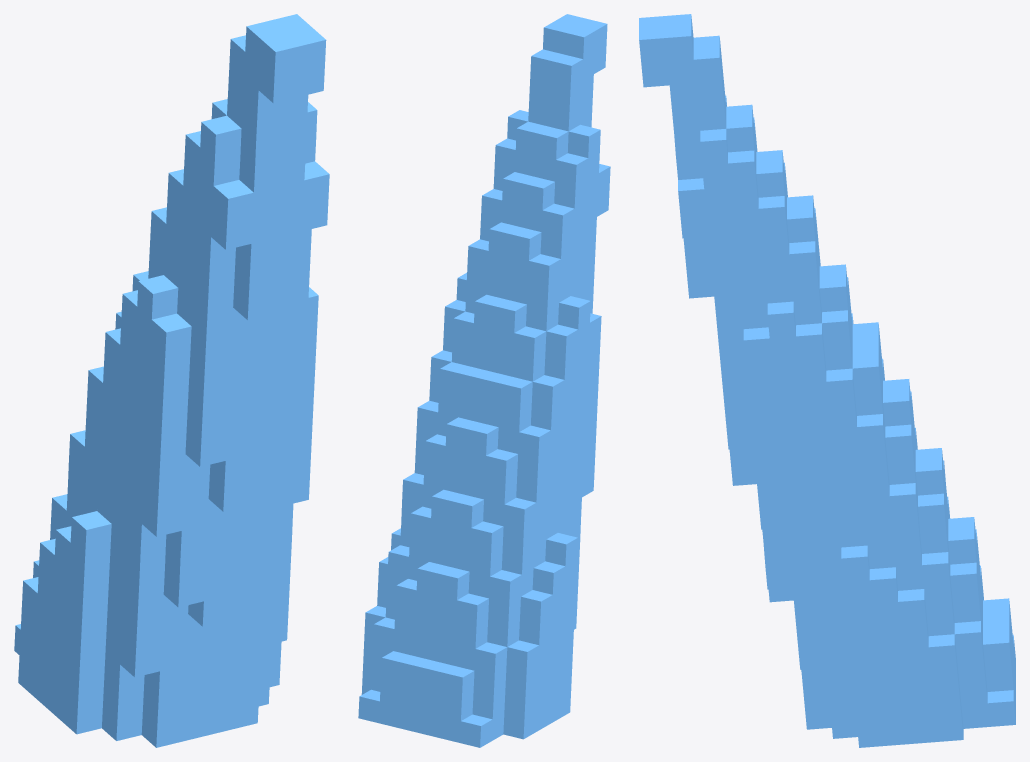
The model's file is blue.gltf.
3 renders of one model, left to right at view 1: azimuth 30°, elevation 25°; view 2: azimuth 150°, elevation 25°; view 3: azimuth 270°, elevation 25°, orthographic. The views are drawn at different scales.
Visible parts, largest first — view 1: 角.1; view 2: 角.1; view 3: 角.1.
Boxes of the visible parts, x1,y1,x2,y2 form: 角.1: [14, 14, 329, 747]; 角.1: [358, 14, 610, 747]; 角.1: [639, 14, 1015, 747].
Size of the model in its own units: 0.9601 by 3.45 by 1.72.
